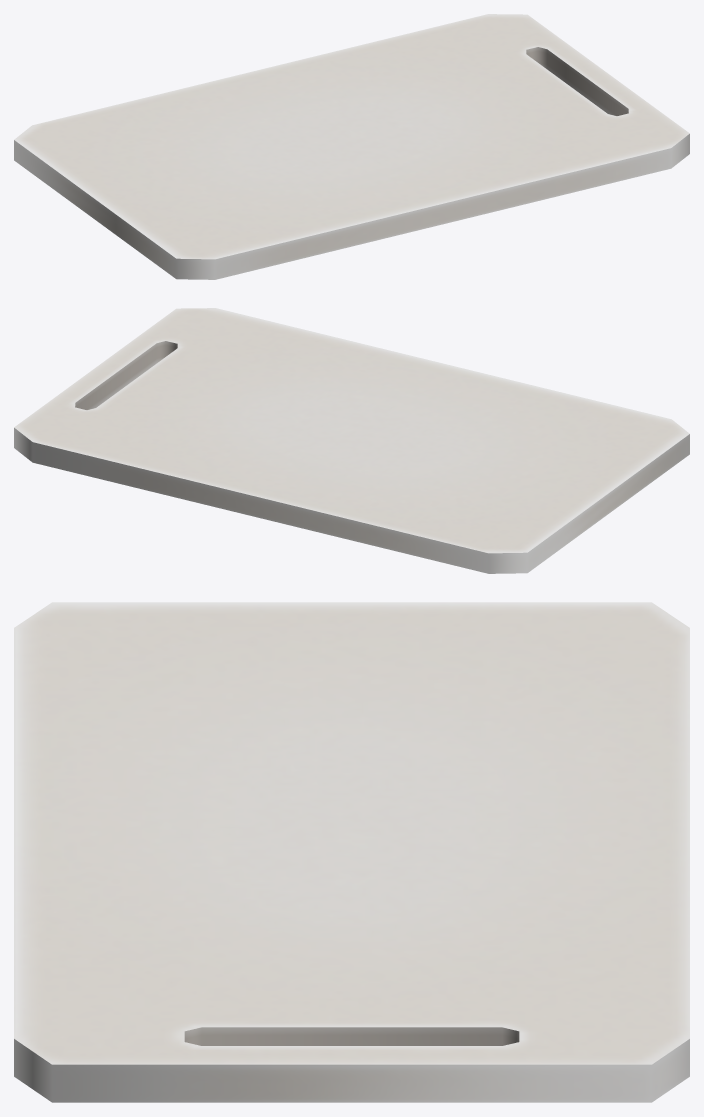
The model's file is KR_Cutting_board_01_01.fbx.
The picture shows the model from 3 angles, top to bottom: view 1: azimuth 30°, elevation 25°; view 2: azimuth 150°, elevation 25°; view 3: azimuth 270°, elevation 25°; orthographic projection. The views are drawn at different scales.
Parts seen in each view (by area): view 1: kr_cutting_board_01_01; view 2: kr_cutting_board_01_01; view 3: kr_cutting_board_01_01.
Part boxes in pixels (bbox=[...]): kr_cutting_board_01_01: bbox=[14, 14, 689, 279]; kr_cutting_board_01_01: bbox=[14, 308, 689, 573]; kr_cutting_board_01_01: bbox=[14, 602, 689, 1102].
Size of the model in its own units: 34 by 1.3 by 21.
